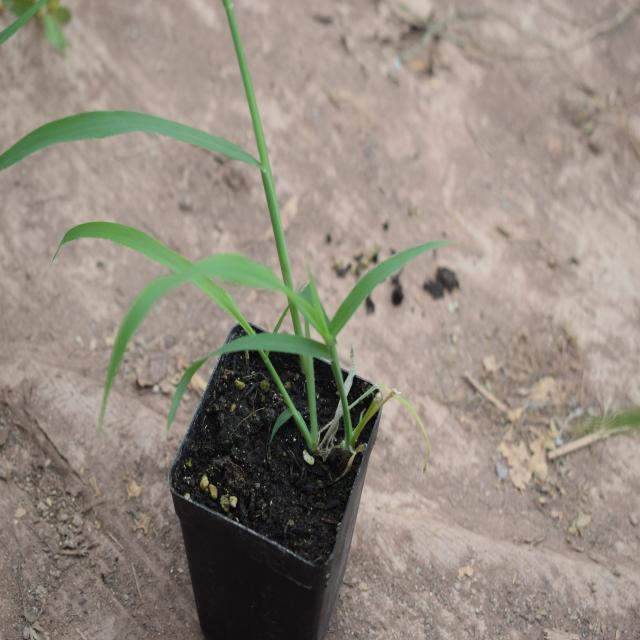crabgrass: (80, 198, 416, 449)
